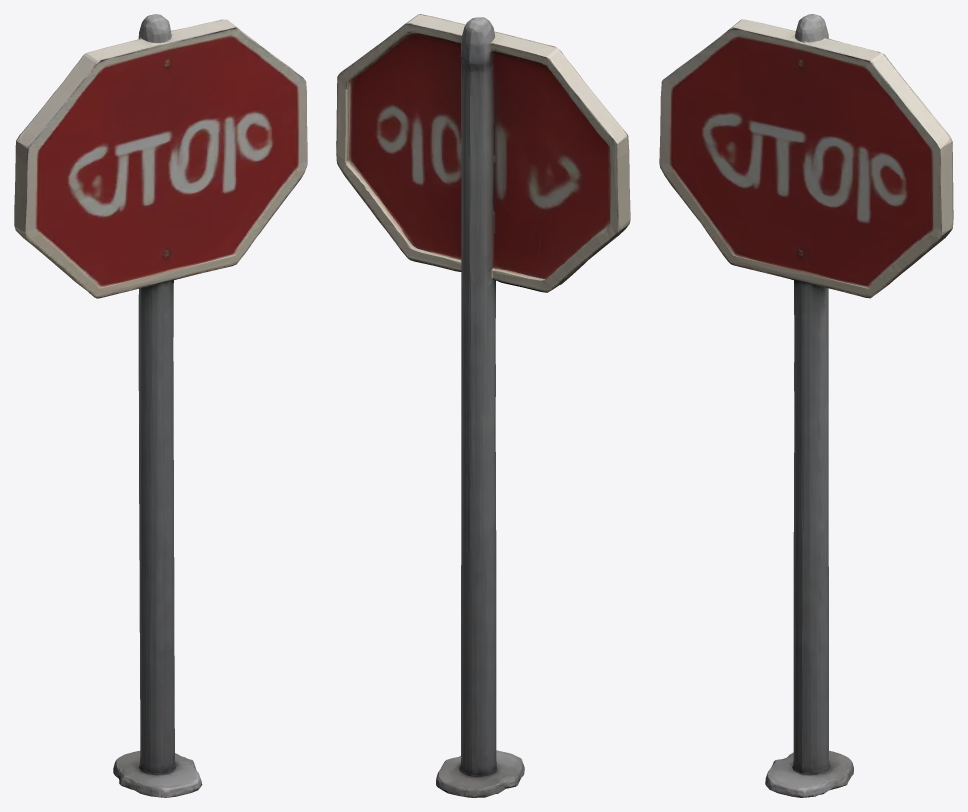
Rendered from stop sign.glb.
3 views of the same model, side by side, from view 1: azimuth 30°, elevation 25°; view 2: azimuth 150°, elevation 25°; view 3: azimuth 330°, elevation 25° (orthographic).
Visible parts, largest first — view 1: world; view 2: world; view 3: world.
Boxes of the visible parts, x1,y1,x2,y2 form: world: (14, 14, 307, 797); world: (336, 14, 630, 797); world: (659, 14, 953, 797).
Size of the model in its own units: 0.3903 by 1 by 0.122.
1 material, 1 textured.
